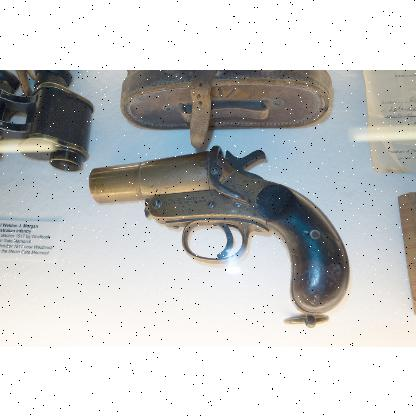gun: (89, 145, 349, 327)
